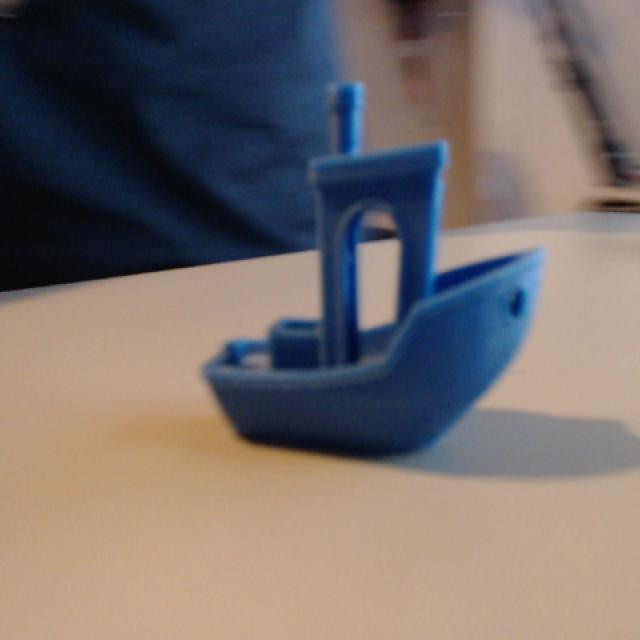benchy: (199, 79, 546, 461)
